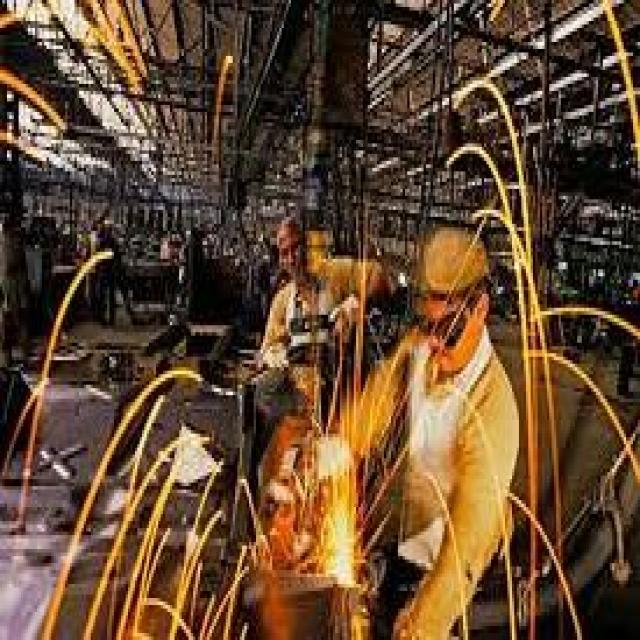Safety-Helmet: (403, 213, 500, 315)
